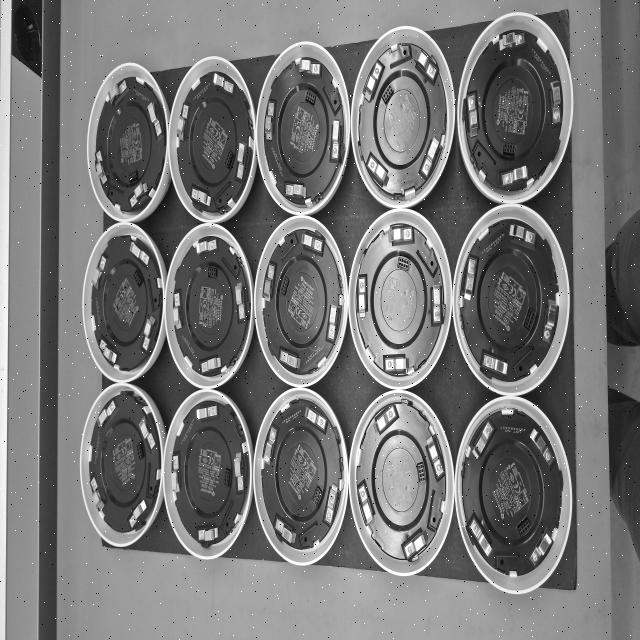yayli: (466, 512, 496, 562), (269, 513, 302, 555), (380, 338, 413, 378), (537, 294, 560, 351), (528, 422, 556, 468), (469, 419, 495, 466), (357, 474, 378, 532), (324, 112, 346, 167), (478, 344, 510, 380), (321, 298, 343, 349), (506, 221, 538, 256), (420, 128, 442, 178), (364, 151, 393, 188), (372, 401, 401, 437), (174, 99, 192, 155), (465, 90, 482, 148), (363, 59, 382, 110), (144, 93, 164, 141), (125, 231, 152, 266), (187, 182, 214, 217), (531, 525, 554, 566), (495, 28, 531, 54), (298, 228, 328, 259), (279, 176, 310, 206), (138, 313, 158, 359), (276, 342, 303, 376), (414, 48, 438, 86), (426, 427, 443, 480), (502, 163, 532, 193), (550, 74, 565, 134), (192, 401, 224, 429), (302, 403, 330, 435), (404, 528, 432, 560), (96, 334, 120, 371), (430, 274, 445, 332), (324, 478, 340, 532), (464, 253, 480, 307), (105, 78, 130, 112), (234, 132, 251, 182), (231, 279, 249, 326), (210, 68, 237, 99), (127, 180, 151, 214), (198, 350, 227, 378), (90, 248, 108, 293), (262, 94, 278, 144), (96, 394, 117, 432), (88, 473, 106, 517), (384, 223, 418, 246), (138, 410, 158, 449), (263, 420, 278, 471), (263, 260, 278, 311), (168, 451, 182, 504), (355, 268, 368, 324), (172, 284, 187, 332), (192, 232, 220, 257), (127, 499, 149, 530), (196, 521, 222, 547), (292, 57, 324, 78), (94, 148, 109, 191), (233, 446, 245, 498)
